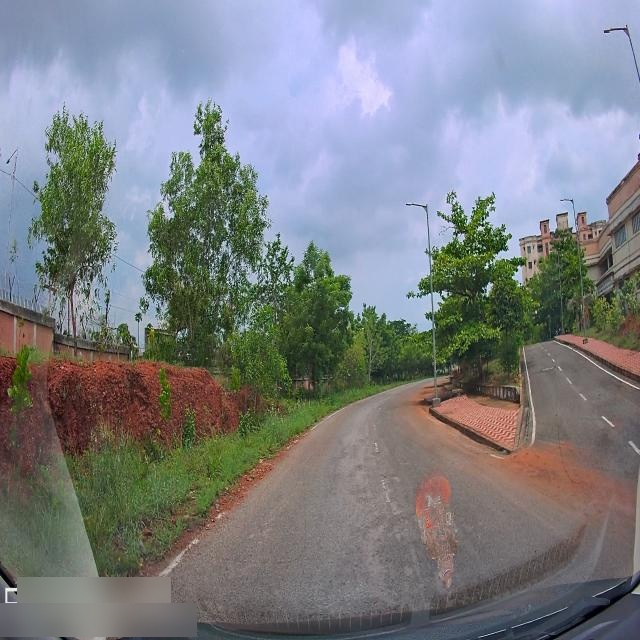pothole: (362, 517, 390, 601), (388, 495, 403, 520), (391, 470, 404, 486)
